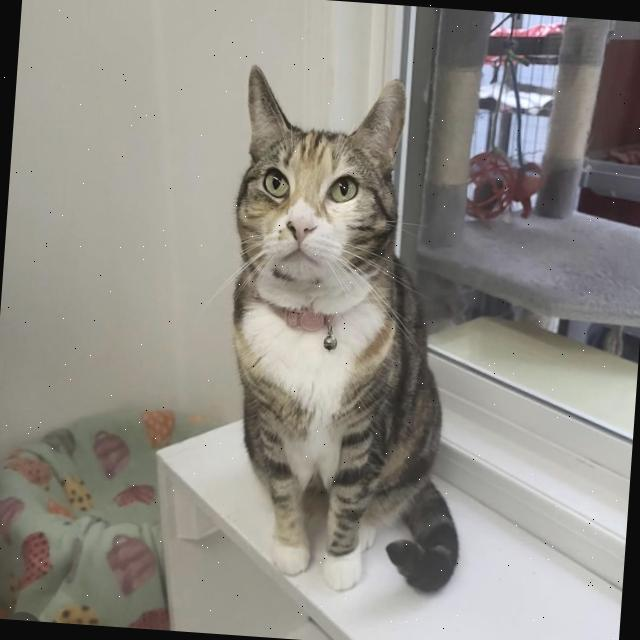calico_cat: (220, 58, 413, 318)
